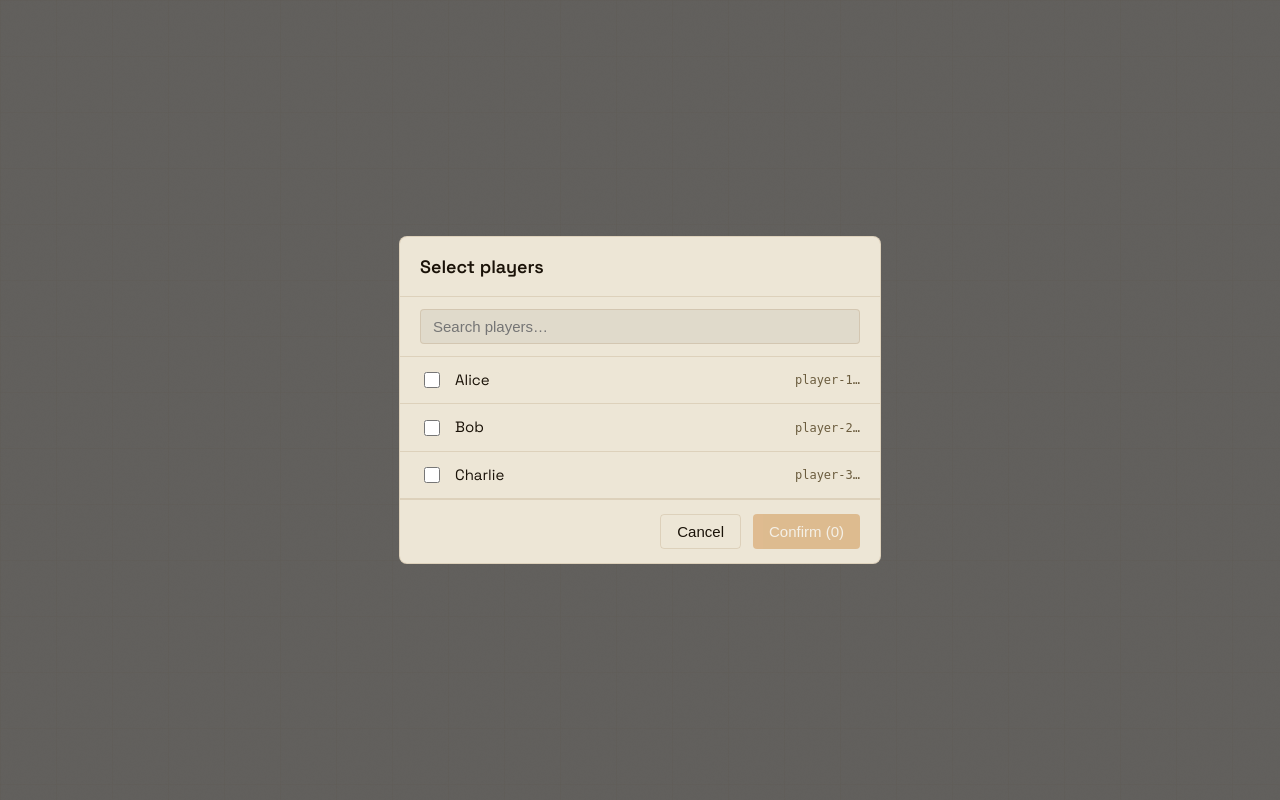
PlayerSelectModal › clear button resets the filter
This screenshot has width=1280, height=800.
Type "al" into the field labelled "Search players" at (640, 326), box [420,309,860,344]
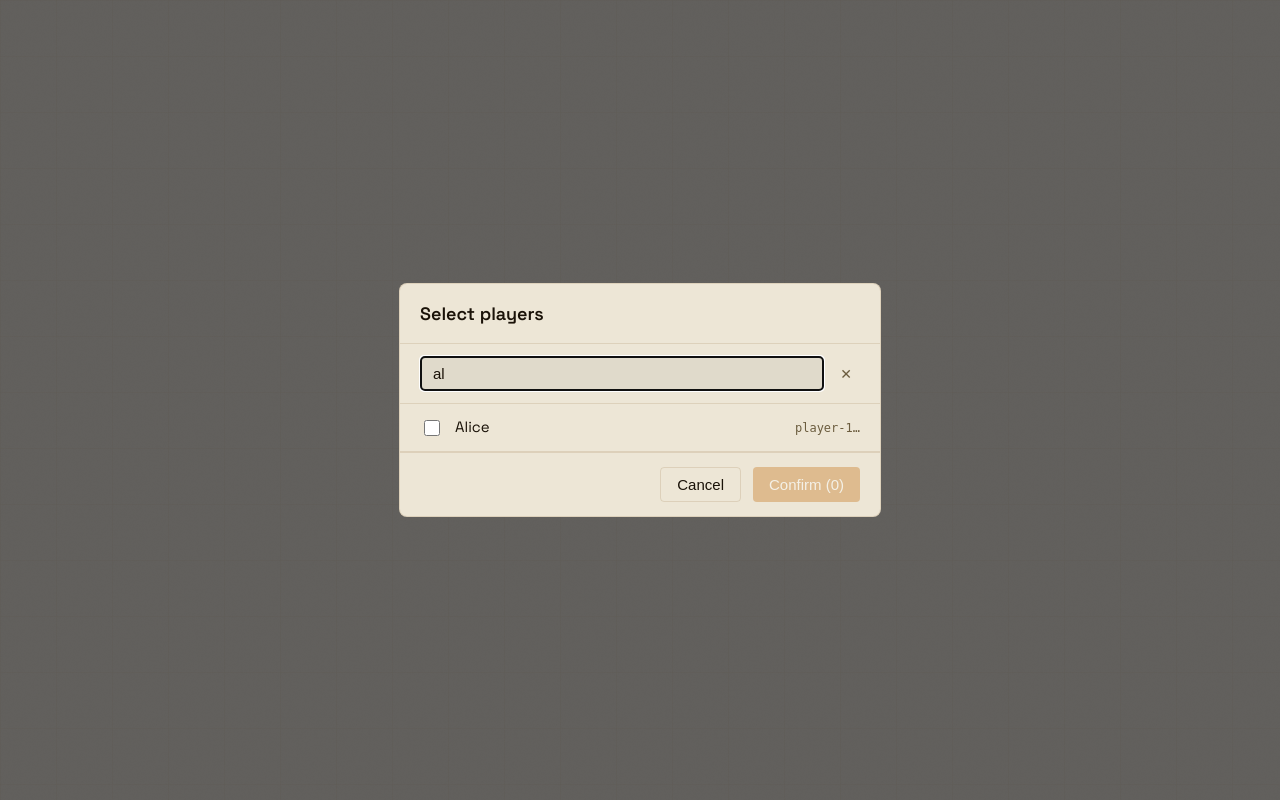
Result: the text "Bob" is gone
Click the button named "Clear search" at (846, 374), box [832,363,860,385]
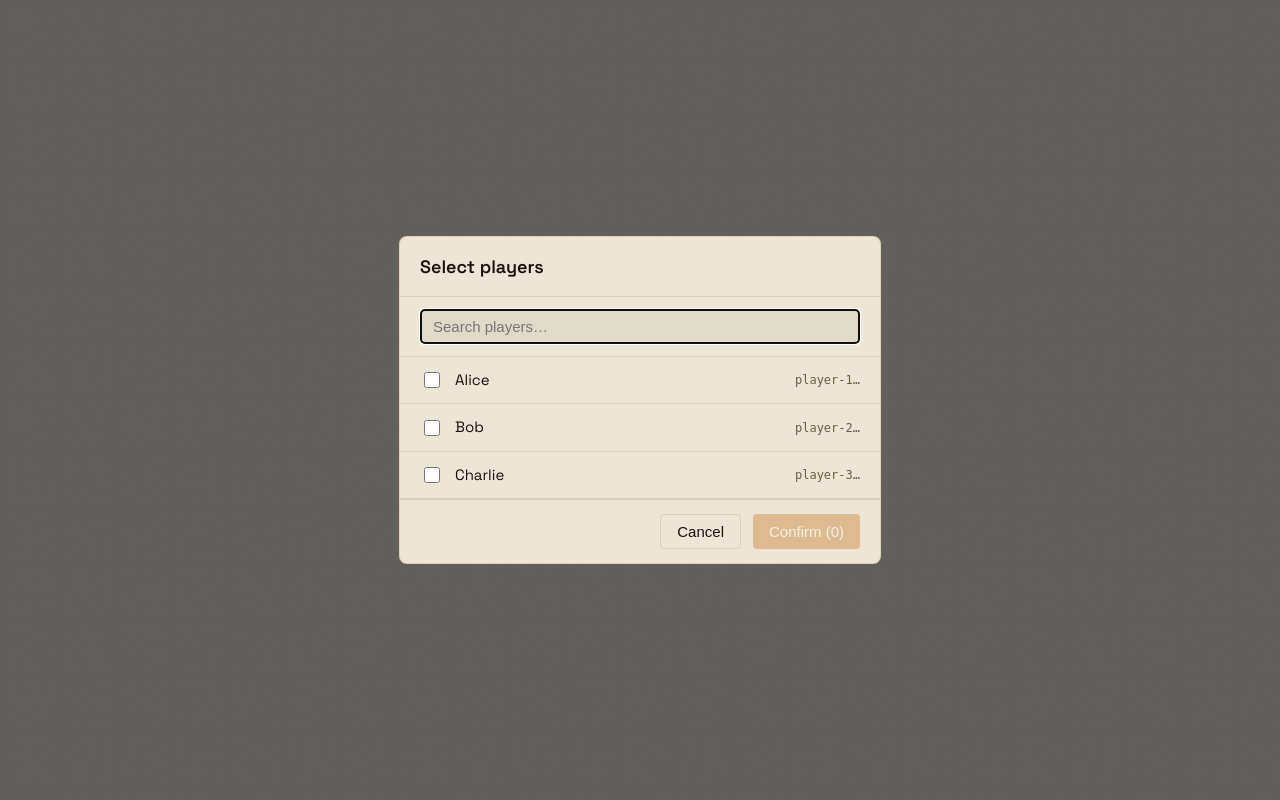
Result: the text "Bob" is shown at [455,417,484,436]
